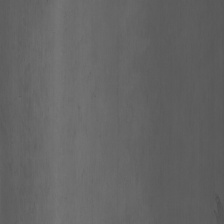water_spot: (213, 191, 223, 224)
